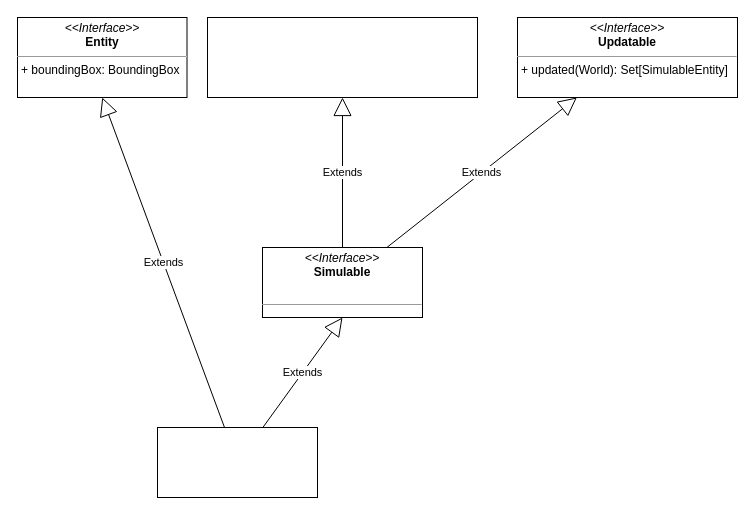
Image size: 755x515. Some labels were removed from this diagram. The shapes that lost their labels are listed below. From the top down, each one's centre as x and y in pixels, then its label:
the point at 342,57: <<Interface>> Collidable + collided(SimulableEntity): Set[SimulableEntity]
the point at 237,462: <<Interface>> SimulableEntity
